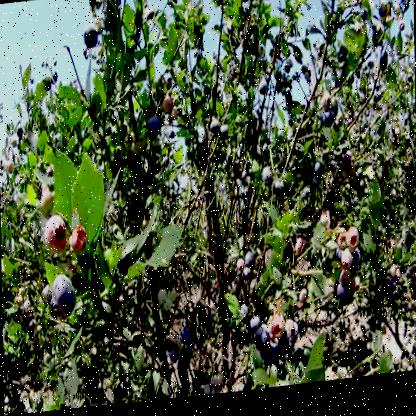intermediate: (44, 217, 68, 258), (70, 224, 88, 260), (163, 99, 179, 126), (273, 320, 286, 348)
mature: (54, 276, 77, 320), (265, 346, 295, 371), (261, 166, 277, 198), (244, 258, 255, 289), (312, 169, 326, 193), (84, 32, 99, 53), (147, 119, 161, 141), (339, 294, 355, 311), (214, 128, 229, 145), (290, 328, 300, 347), (354, 258, 363, 278), (324, 119, 336, 134)
young: (337, 233, 361, 256), (160, 292, 176, 318), (340, 256, 353, 278), (324, 100, 339, 119)
